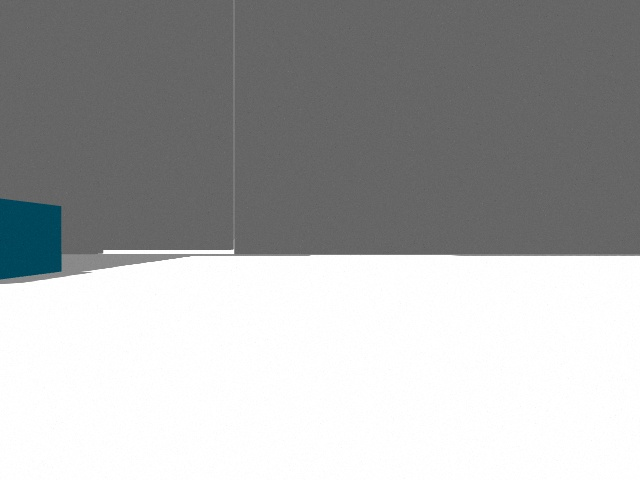blue_drop_zone: (0, 199, 62, 279)
